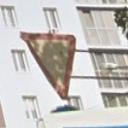preferencia: (17, 29, 82, 102)
